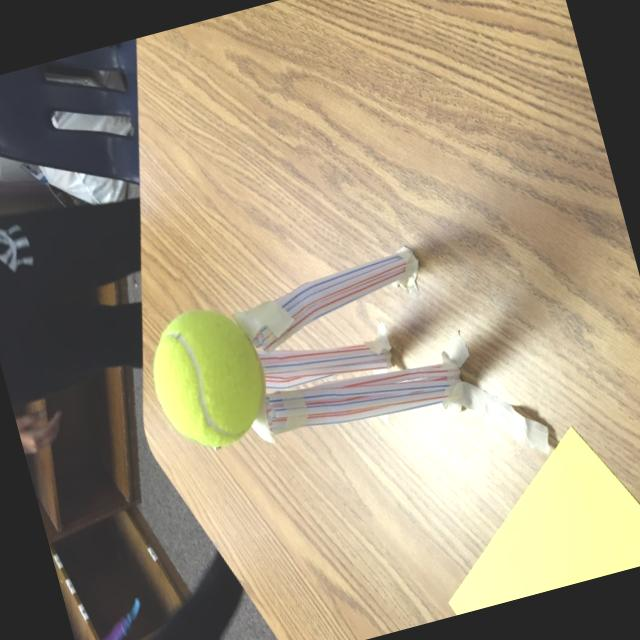Tennis ball: (136, 294, 280, 460)
